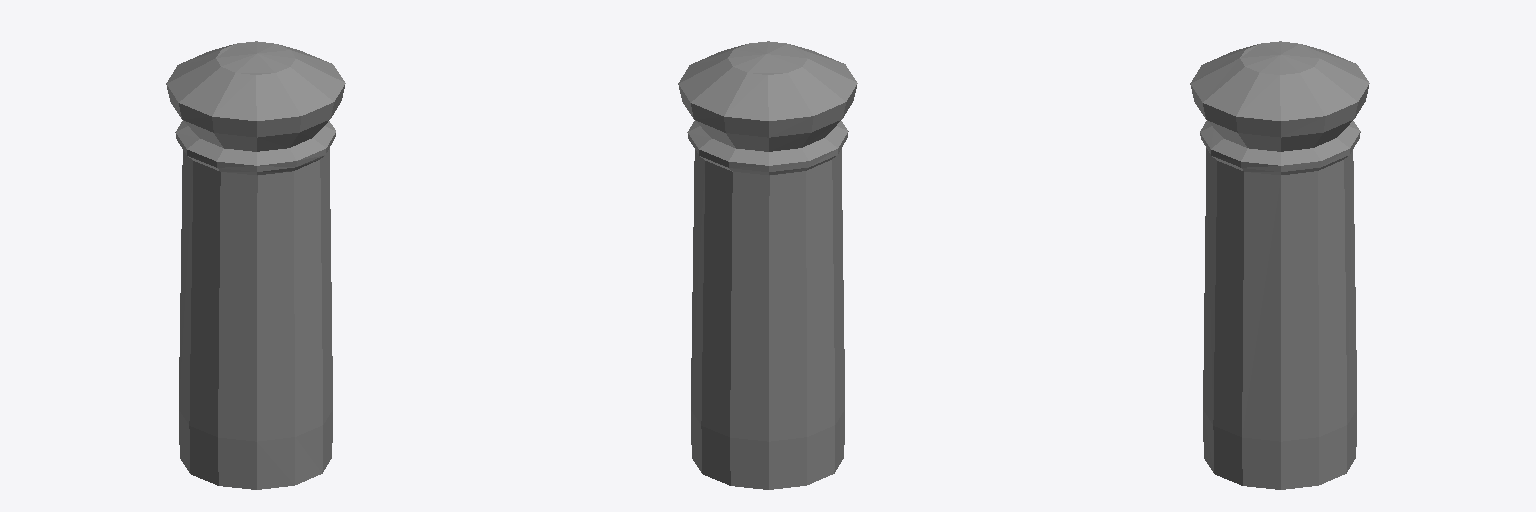
File: Post_Box.obj
3 views of the same model, side by side, from view 1: azimuth 30°, elevation 25°; view 2: azimuth 150°, elevation 25°; view 3: azimuth 270°, elevation 25° (orthographic).
Visible parts, largest first — view 1: Post_Box; view 2: Post_Box; view 3: Post_Box.
Part boxes in pixels (x1,y1,x2,y2): Post_Box: (166, 41, 345, 489); Post_Box: (678, 41, 857, 489); Post_Box: (1190, 41, 1369, 489).
Size of the model in its own units: 0.2568 by 0.6372 by 0.2568.